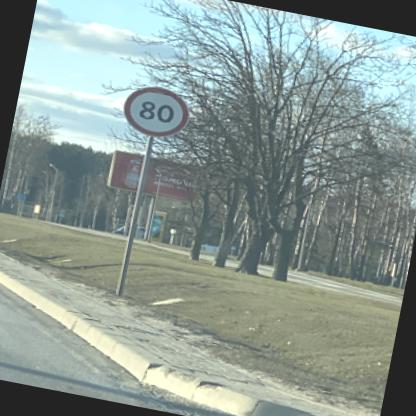speedlimit: (118, 79, 191, 140)
